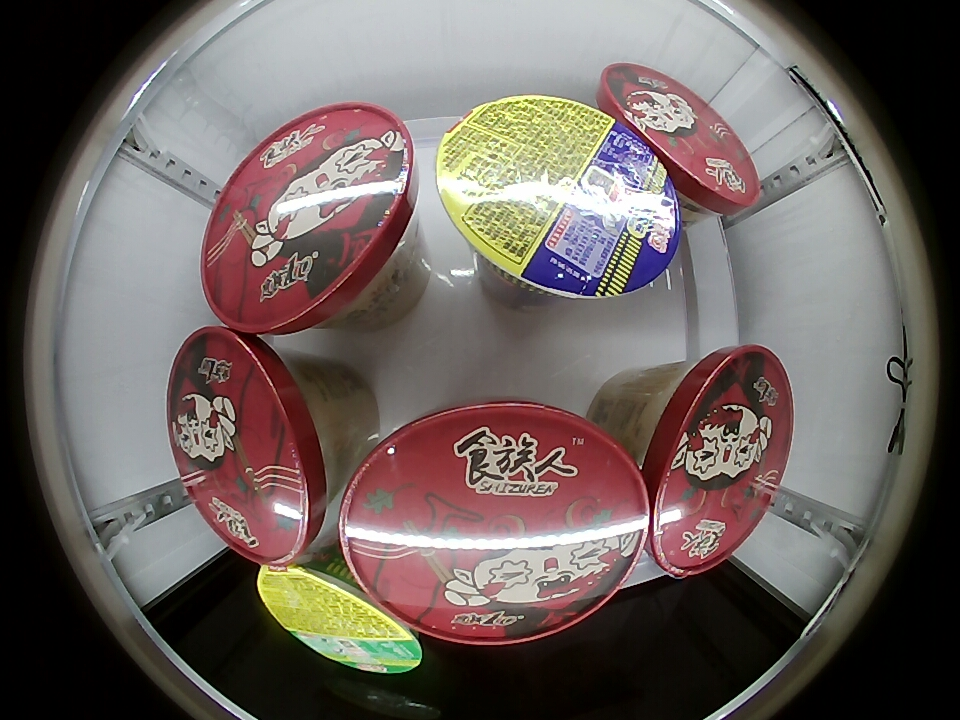heweidao: (436, 93, 682, 300)
heweidao2: (256, 555, 422, 675)
suanlafen: (340, 399, 651, 646), (200, 104, 418, 334), (167, 326, 336, 565), (641, 346, 795, 578), (602, 62, 759, 214)
